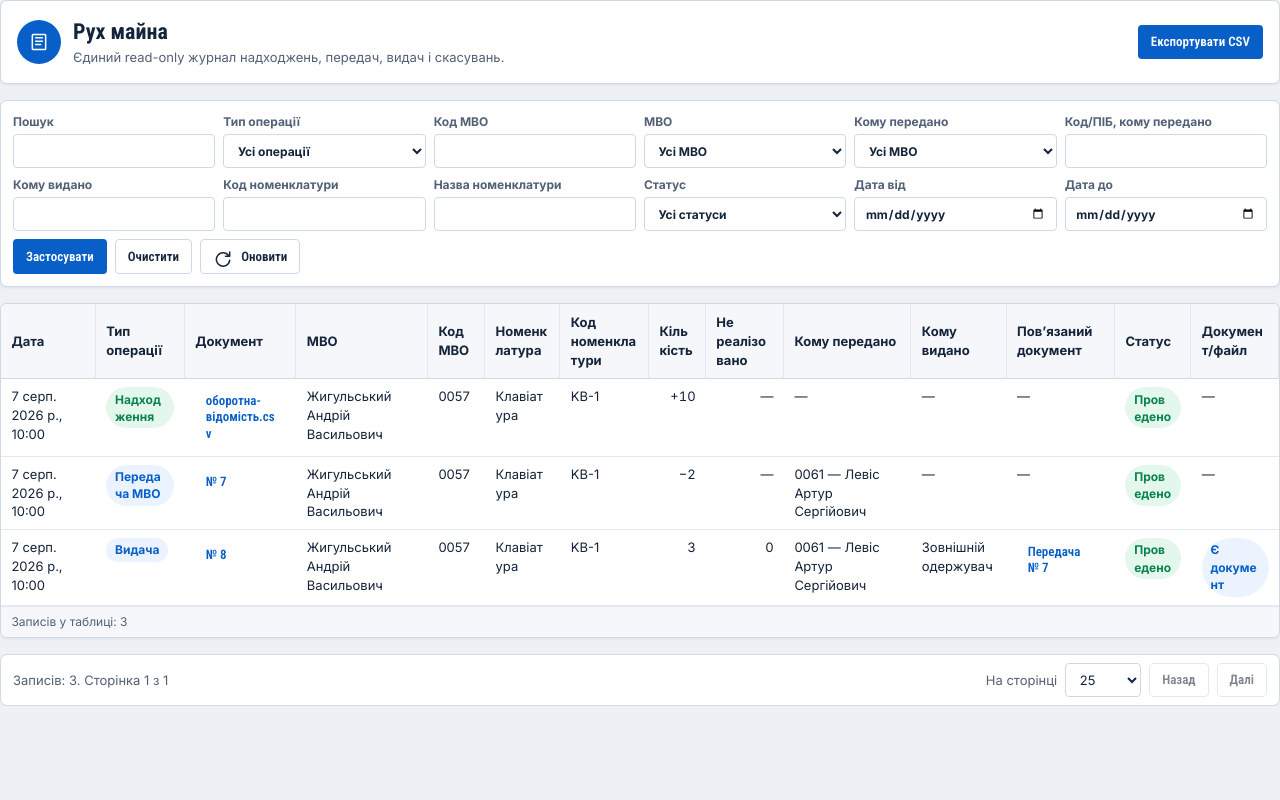
Test: AccountingMovementsView › exports with active filters and opens read-only document details
Expected: the table named "Бухгалтерський журнал руху майна" is shown, [1,304,1279,606]
Step 1. Type "Клавіатура" into the search field labelled "Пошук" → point(114, 151), box [13,134,215,168]
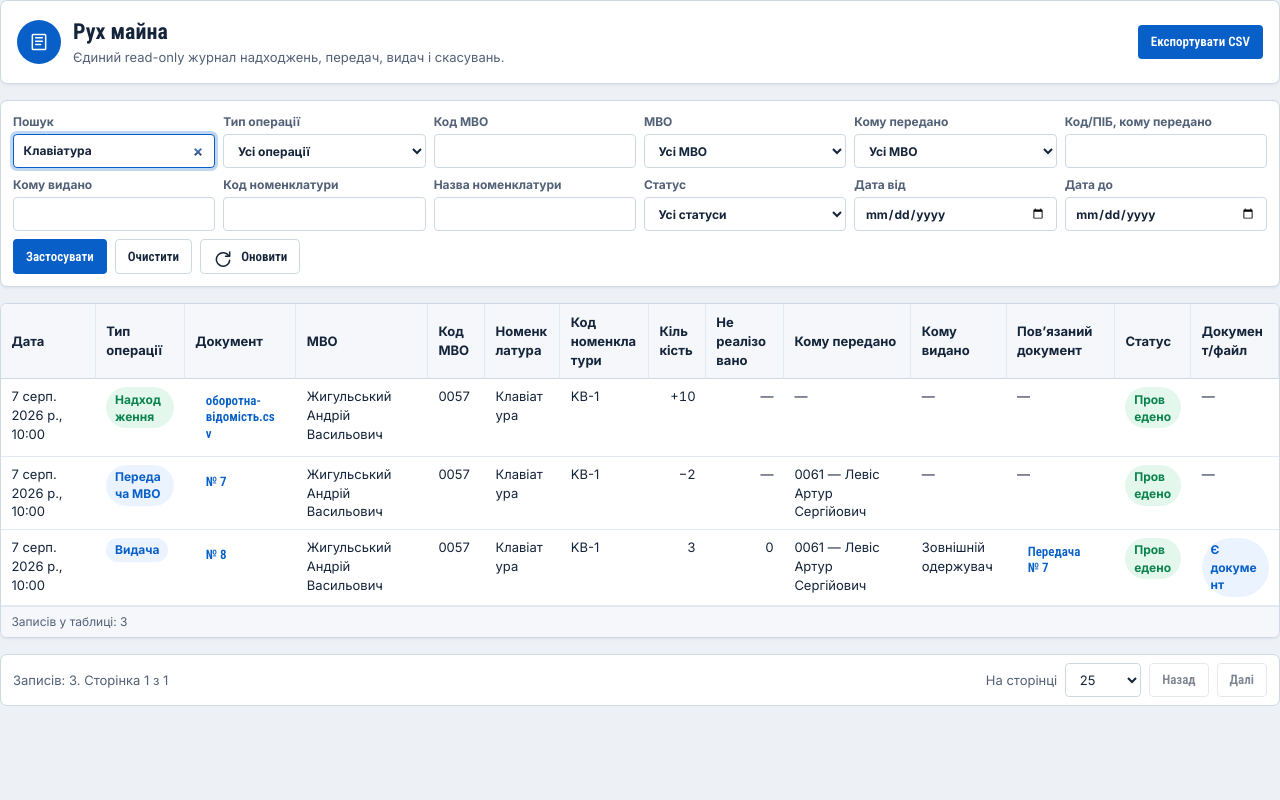
Step 2. Click the button "Застосувати" → point(60, 257), box [13,239,107,274]
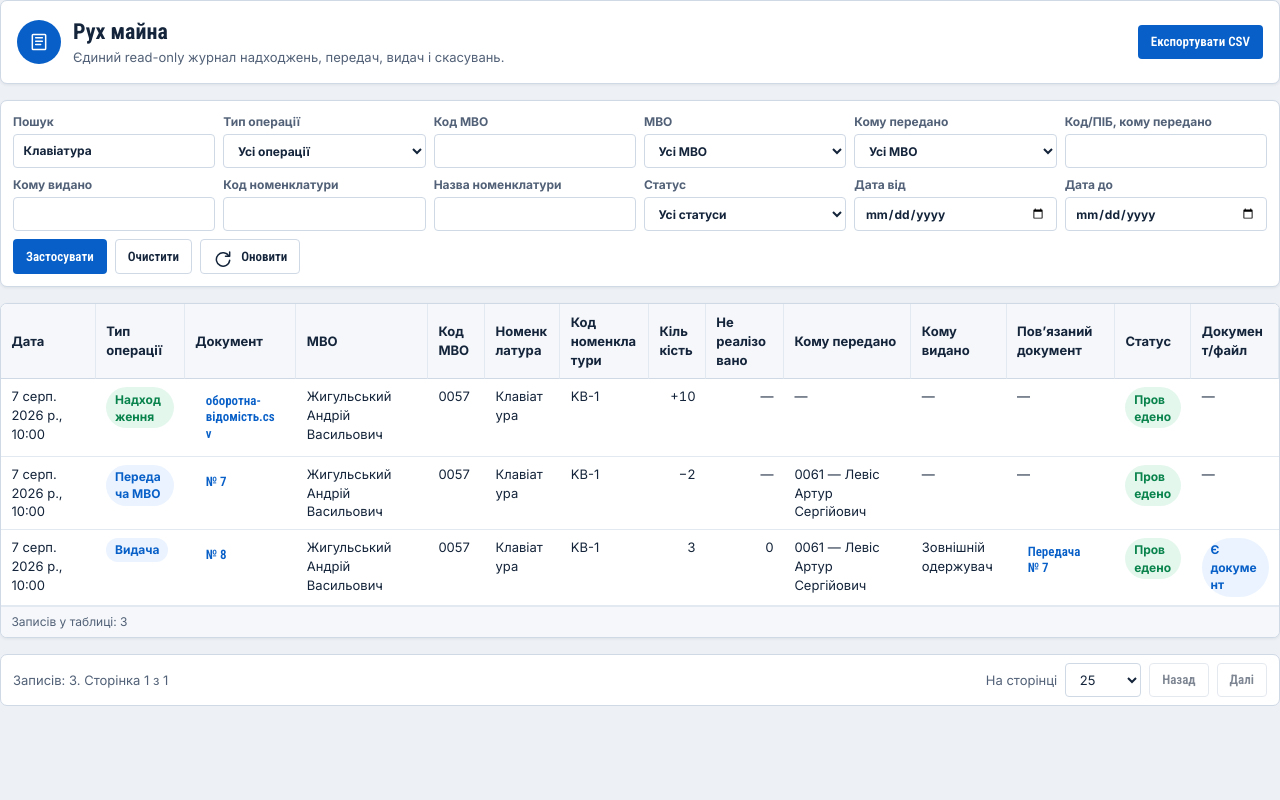
Step 3. Click the button "Експортувати CSV" → point(1200, 42), box [1138,25,1263,59]
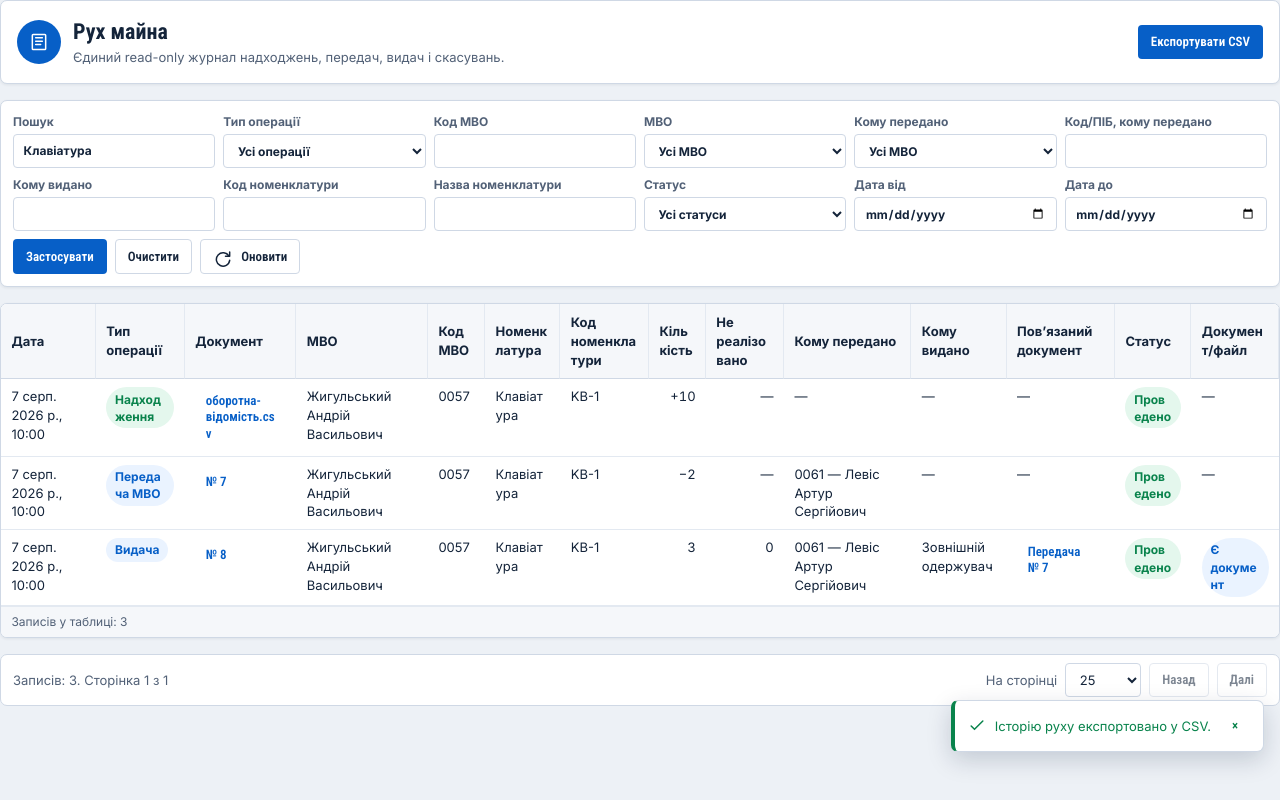
Step 4. Click the button "№ 8" → point(216, 555), box [195,538,237,572]
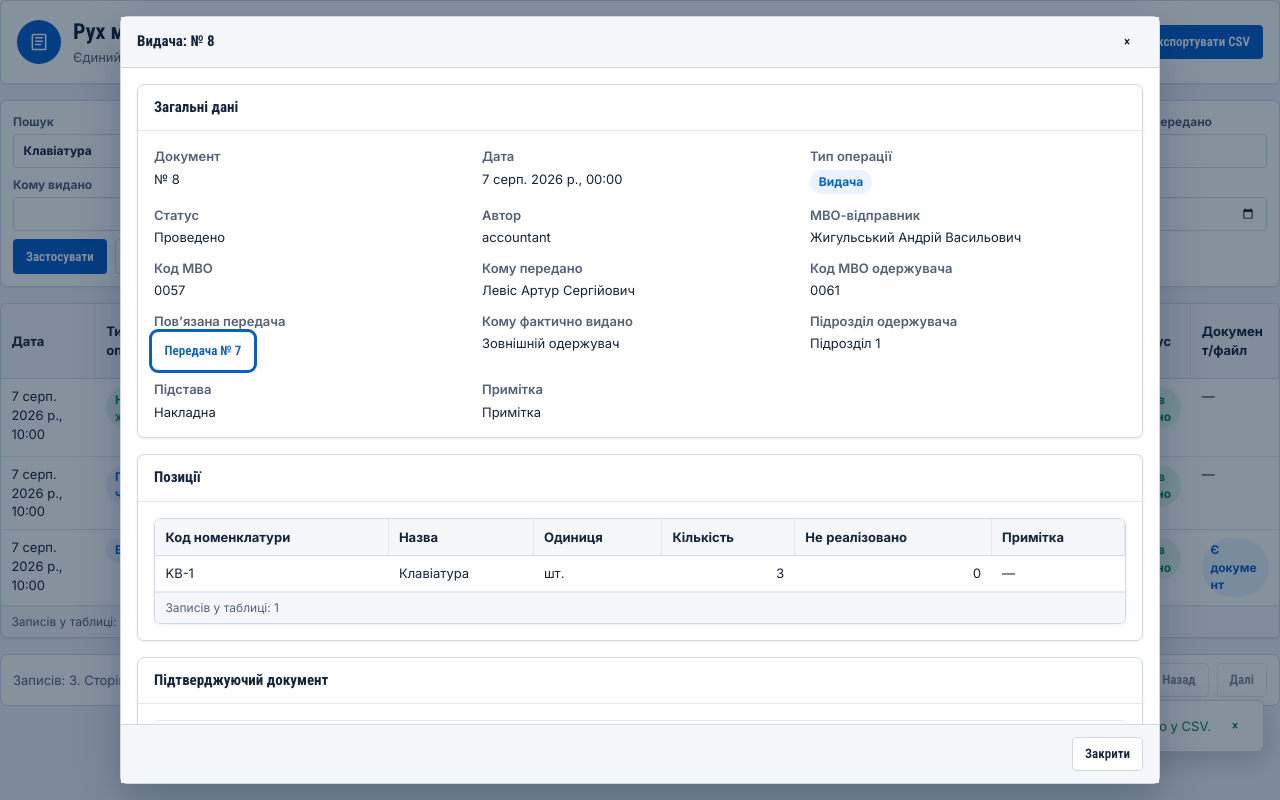
Result: the dialog "Видача: № 8" is shown
Result: the column heading "Не реалізовано" is shown at [795,519,992,556]
Result: the text "0" is shown at [795,556,992,592]
